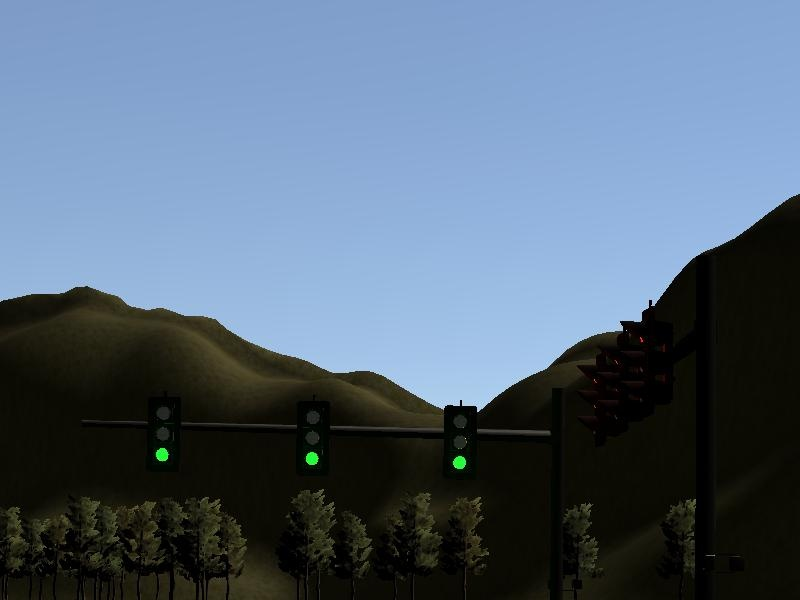green: (439, 401, 480, 488), (293, 400, 332, 479), (143, 393, 180, 466)
